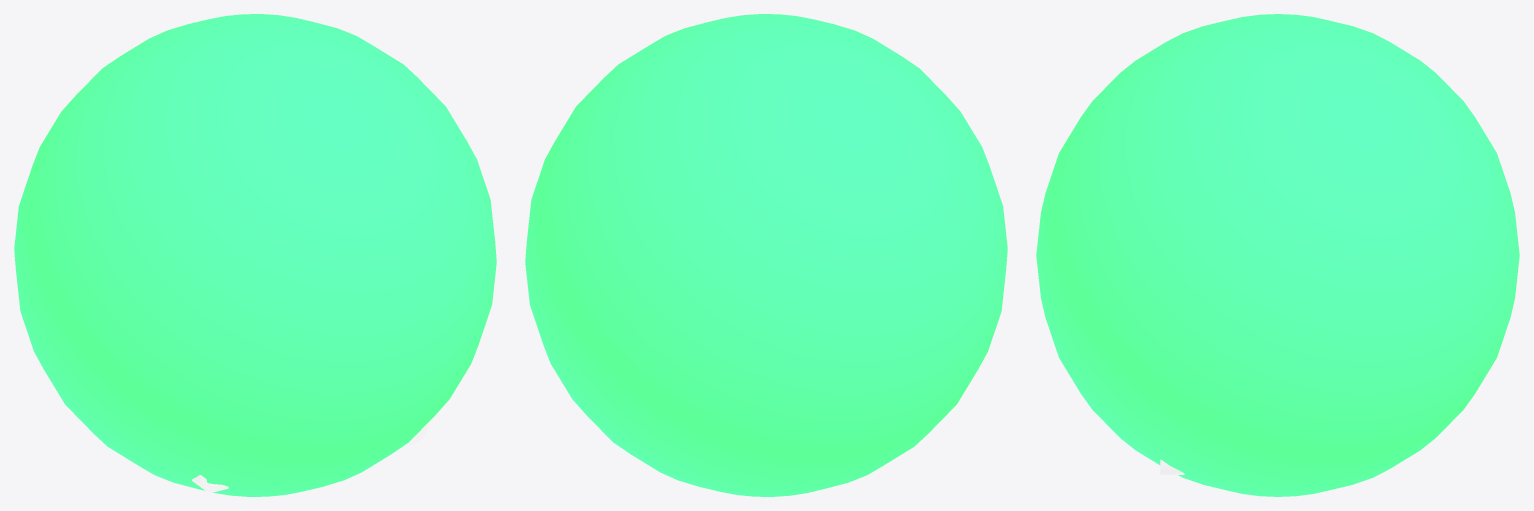
Rendered from filtro-de-oleo.glb.
3 renders of one model, left to right at view 1: azimuth 30°, elevation 25°; view 2: azimuth 150°, elevation 25°; view 3: azimuth 270°, elevation 25°, orthographic.
Parts seen in each view (by area): view 1: Sphere.001; view 2: Sphere.001; view 3: Sphere.001.
Boxes of the visible parts, x1,y1,x2,y2 form: Sphere.001: (14,14,496,496); Sphere.001: (525,14,1007,496); Sphere.001: (1036,14,1519,496).
Size of the model in its own units: 5.15 by 5.15 by 5.15.
